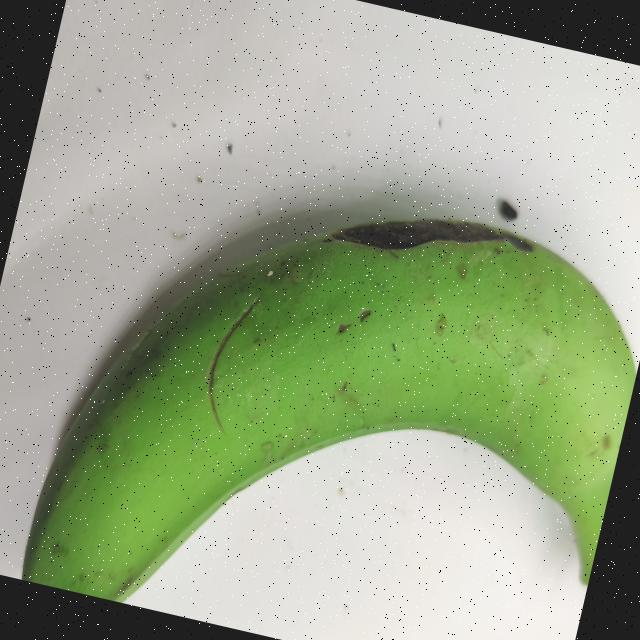Raw: (9, 82, 640, 640)
